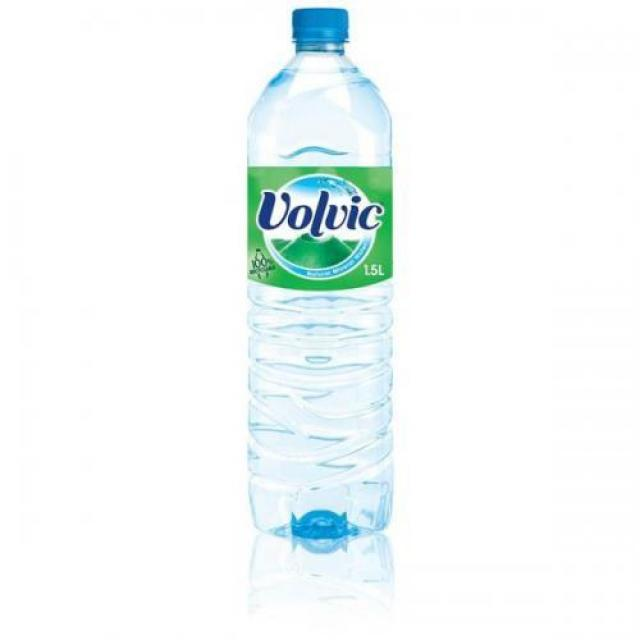plastic_bottle: (252, 5, 390, 538)
